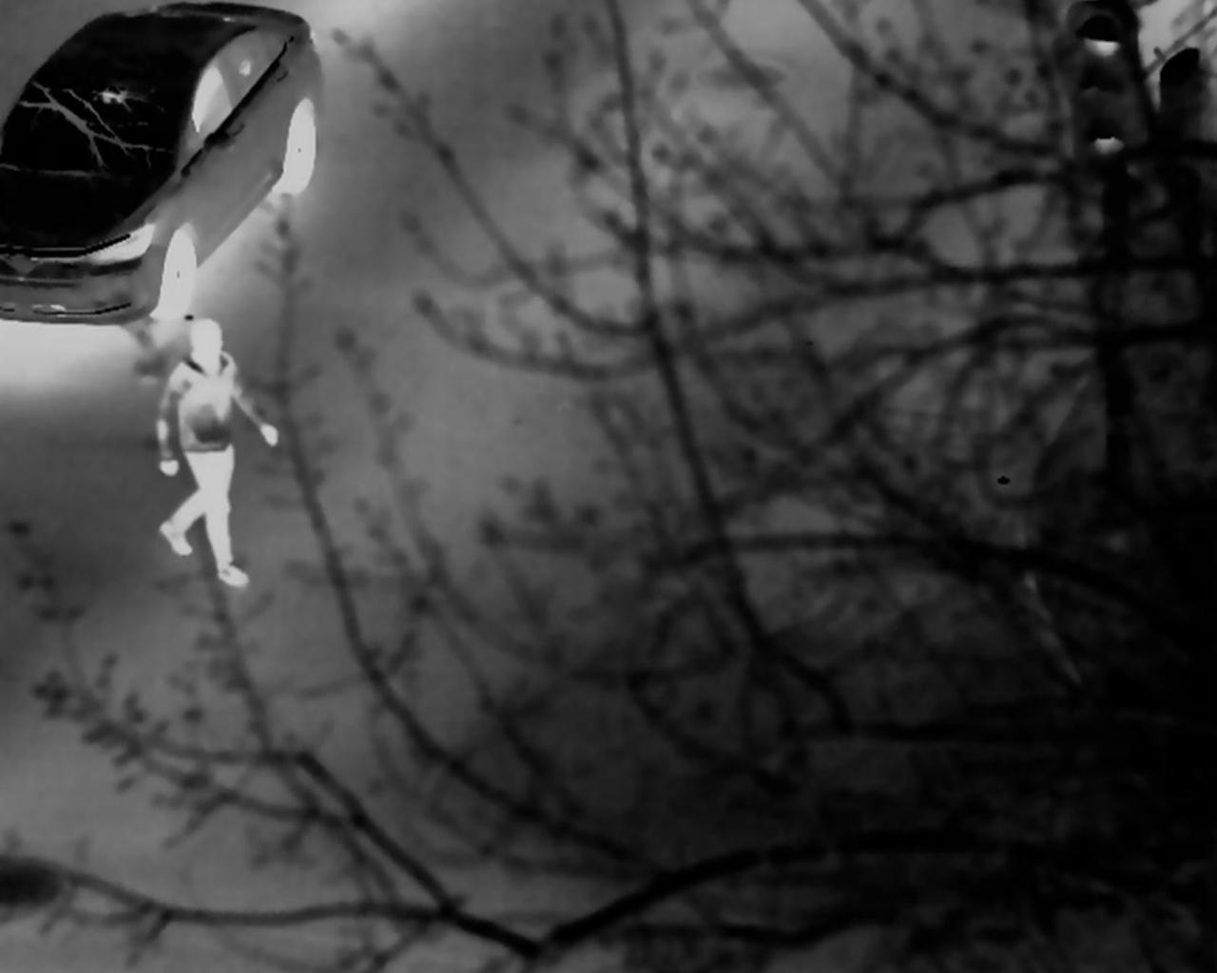person: (155, 321, 280, 585)
